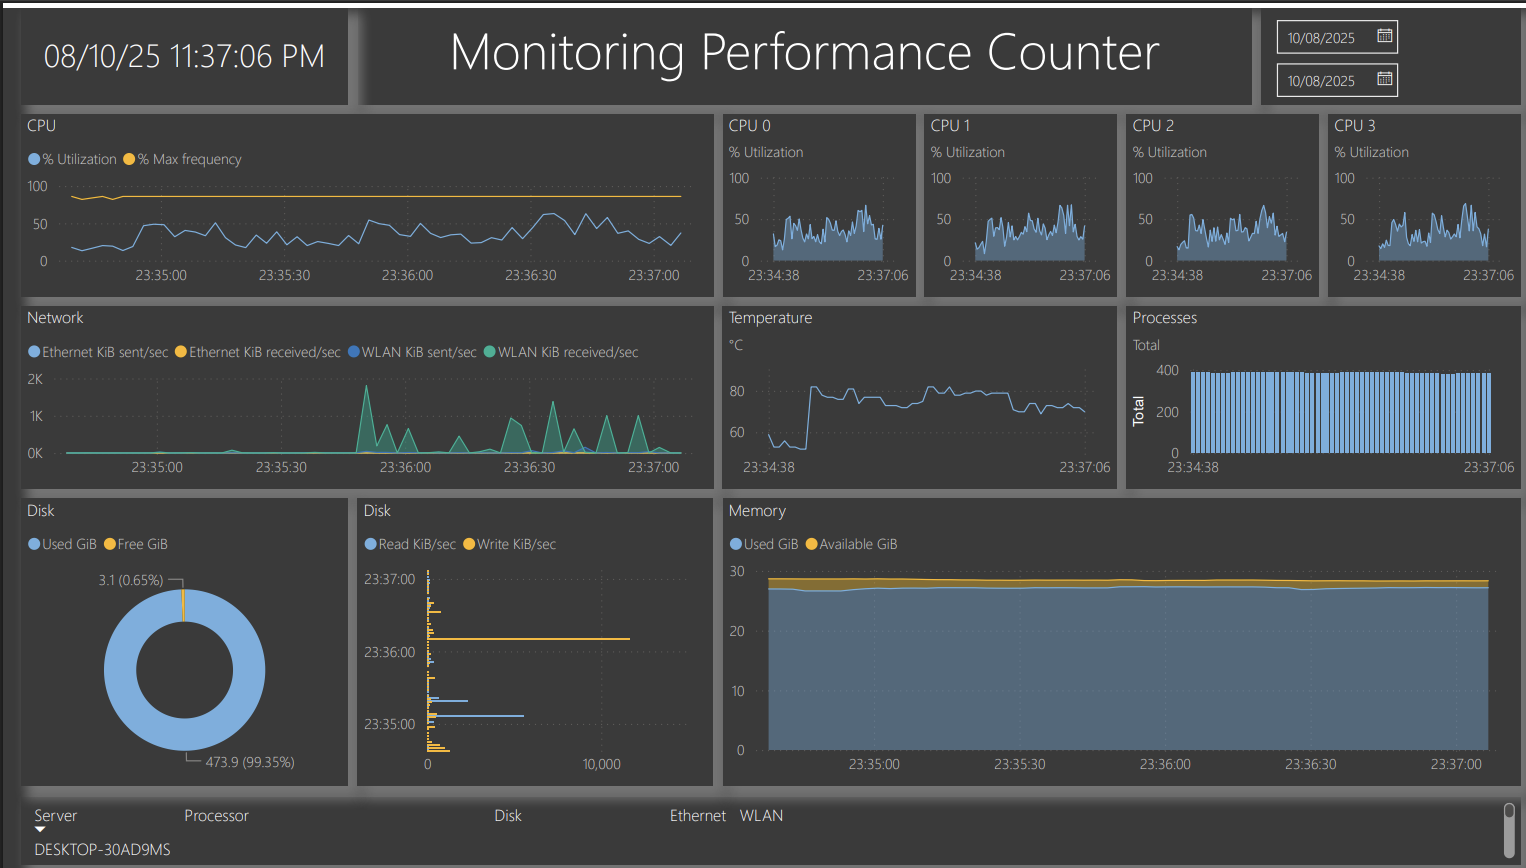

The dashboard page shown, as its layout file describes it:
{"tool":"powerbi","page":{"name":"Perfomance Counter","canvas":[1280,720],"ordinal":0},"visuals":[{"type":"textbox","box":[296,0,744,80],"z":0},{"type":"tableEx","fields":{"Values":["RealtimeData.Server","RealtimeData.Processor","RealtimeData.Disk","RealtimeData.Ethernet","RealtimeData.WLAN"]},"box":[16,656,1248,56],"z":1000},{"type":"slicer","fields":{"Values":["RealtimeData.Timestamp"]},"box":[1048,0,216,80],"z":2000},{"type":"card","fields":{"Values":["Max(RealtimeData.Timestamp)"]},"box":[16,0,272,80],"z":3000},{"type":"lineChart","title":"CPU","fields":{"Category":["RealtimeData.Timestamp"],"Y":["Sum(RealtimeData.CPU usage percent)","Sum(RealtimeData.CPU max frequency percent)"]},"box":[16,88,576,152],"z":4000},{"type":"areaChart","title":"CPU 0","fields":{"Category":["RealtimeData.Timestamp"],"Y":["Sum(RealtimeData.CPU 0 usage percent)"]},"box":[600,88,160,152],"z":5000},{"type":"areaChart","title":"CPU 1","fields":{"Category":["RealtimeData.Timestamp"],"Y":["Sum(RealtimeData.CPU 1 usage percent)"]},"box":[768,88,160,152],"z":6000},{"type":"areaChart","title":"CPU 2","fields":{"Category":["RealtimeData.Timestamp"],"Y":["Sum(RealtimeData.CPU 2 usage percent)"]},"box":[936,88,160,152],"z":7000},{"type":"areaChart","title":"CPU 3","fields":{"Category":["RealtimeData.Timestamp"],"Y":["Sum(RealtimeData.CPU 3 usage percent)"]},"box":[1104,88,160,152],"z":8000},{"type":"areaChart","title":"Network","fields":{"Y":["RealtimeData.Ethernet KiB sent/sec","RealtimeData.Ethernet KiB received/sec","RealtimeData.WLAN KiB sent/sec","RealtimeData.WLAN KiB received/sec"],"Category":["RealtimeData.Timestamp"]},"box":[16,248,576,152],"z":9000},{"type":"lineChart","title":"Temperature","fields":{"Category":["RealtimeData.Timestamp"],"Y":["Sum(RealtimeData.Temperature)"]},"box":[600,248,328,152],"z":10000},{"type":"clusteredColumnChart","title":"Processes","fields":{"Category":["RealtimeData.Timestamp"],"Y":["Sum(RealtimeData.Processes)"]},"box":[936,248,328,152],"z":11000},{"type":"donutChart","title":"Disk","fields":{"Y":["RealtimeData.Disk used GiB","RealtimeData.Disk free GiB"]},"box":[16,408,272,239],"z":12000},{"type":"clusteredBarChart","title":"Disk","fields":{"Category":["RealtimeData.Timestamp"],"Y":["RealtimeData.Disk read KiB/sec","RealtimeData.Disk write KiB/sec"]},"box":[296,408,296,239],"z":13000},{"type":"stackedAreaChart","title":"Memory","fields":{"Category":["RealtimeData.Timestamp"],"Y":["RealtimeData.Memory used GiB","RealtimeData.Memory available GiB"]},"box":[600,408,664,239],"z":14000}]}

Visuals, with their boxes in screenshot pixels (x1, y1, x2, y2), scaled from the page's 1280x720 canvas onto the 1526x868 screenshot:
textbox: 353:0:1240:96
tableEx - RealtimeData.Server x RealtimeData.Processor: 19:791:1507:858
slicer - RealtimeData.Timestamp: 1249:0:1507:96
card - Max(RealtimeData.Timestamp): 19:0:343:96
"CPU" lineChart: 19:106:706:289
"CPU 0" areaChart: 715:106:906:289
"CPU 1" areaChart: 916:106:1106:289
"CPU 2" areaChart: 1116:106:1307:289
"CPU 3" areaChart: 1316:106:1507:289
"Network" areaChart: 19:299:706:482
"Temperature" lineChart: 715:299:1106:482
"Processes" clusteredColumnChart: 1116:299:1507:482
"Disk" donutChart: 19:492:343:780
"Disk" clusteredBarChart: 353:492:706:780
"Memory" stackedAreaChart: 715:492:1507:780
